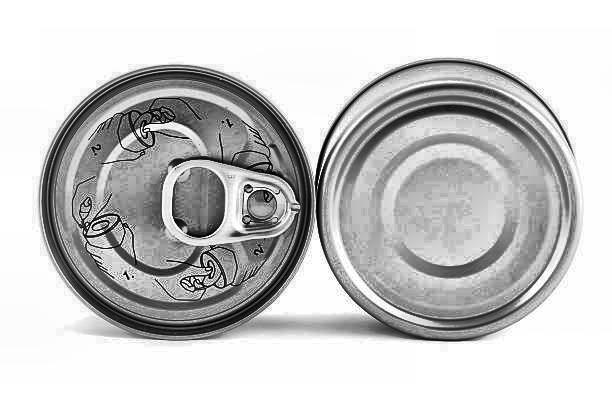can: (30, 50, 316, 344), (322, 53, 584, 345)
